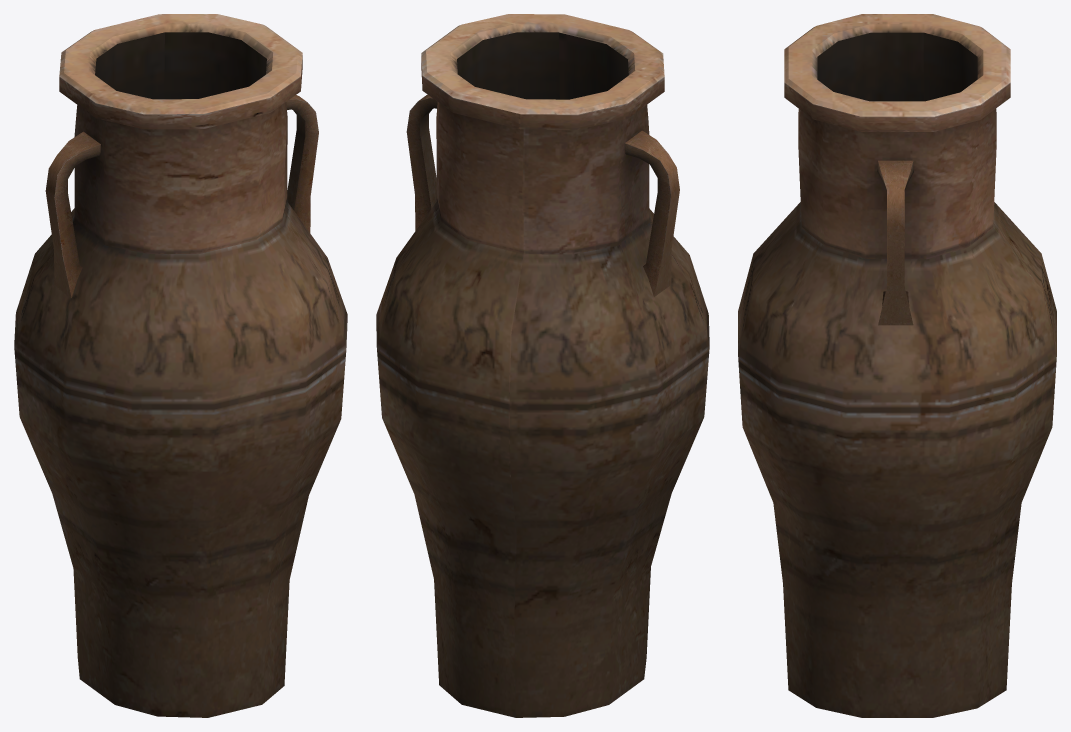
Rendered from vase_sumer_big.dae.
The picture shows the model from 3 angles, left to right: view 1: azimuth 30°, elevation 25°; view 2: azimuth 150°, elevation 25°; view 3: azimuth 270°, elevation 25°; orthographic projection.
Visible parts, largest first — view 1: polySurface1; view 2: polySurface1; view 3: polySurface1.
Boxes of the visible parts, box(x1,y1,x2,y2) form: polySurface1: box(14, 14, 347, 717); polySurface1: box(376, 14, 709, 717); polySurface1: box(738, 14, 1056, 717).
Size of the model in its own units: 0.5857 by 1.21 by 0.5693.
